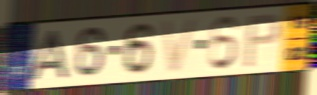6: (122, 21, 156, 77), (208, 14, 240, 72), (75, 25, 107, 80)
A: (27, 28, 71, 83)
P: (242, 11, 283, 69)
V: (159, 15, 202, 76)
